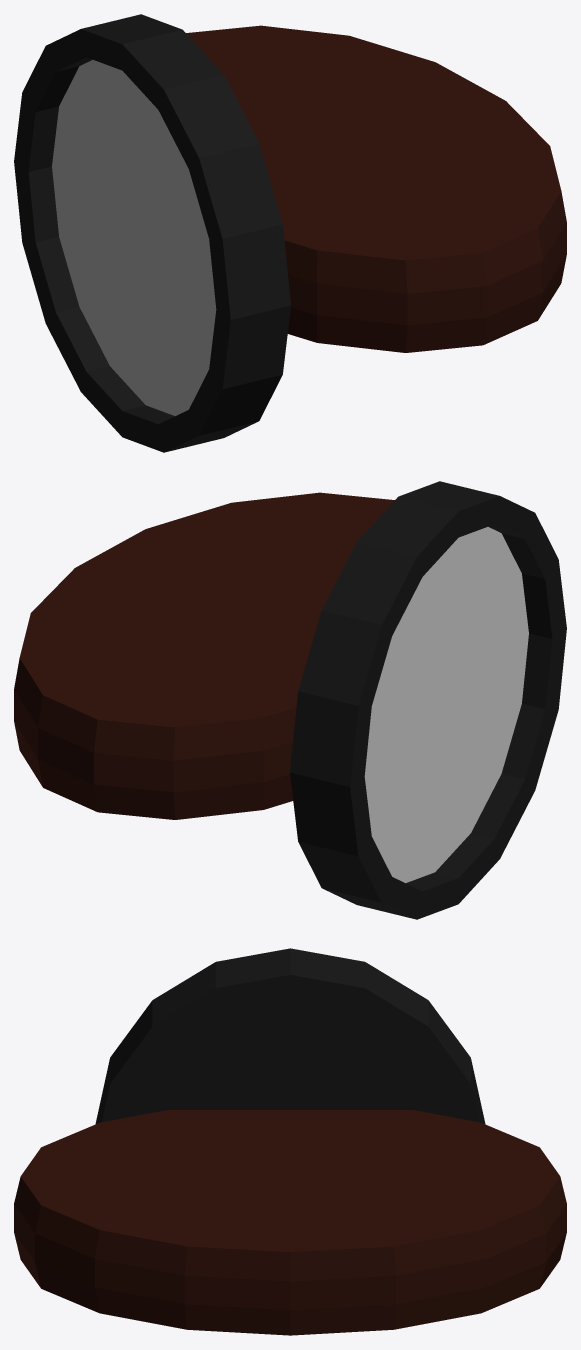
File: Watch.fbx
3 renders of one model, top to bottom at view 1: azimuth 30°, elevation 25°; view 2: azimuth 150°, elevation 25°; view 3: azimuth 270°, elevation 25°, orthographic. The views are drawn at different scales.
Visible parts, largest first — view 1: Cylinder; view 2: Cylinder; view 3: Cylinder.
Boxes of the visible parts, <box> form: Cylinder: <box>14,14,566,452</box>; Cylinder: <box>14,481,566,919</box>; Cylinder: <box>14,948,566,1335</box>.
Size of the model in its own units: 29.45 by 40.38 by 28.52.
